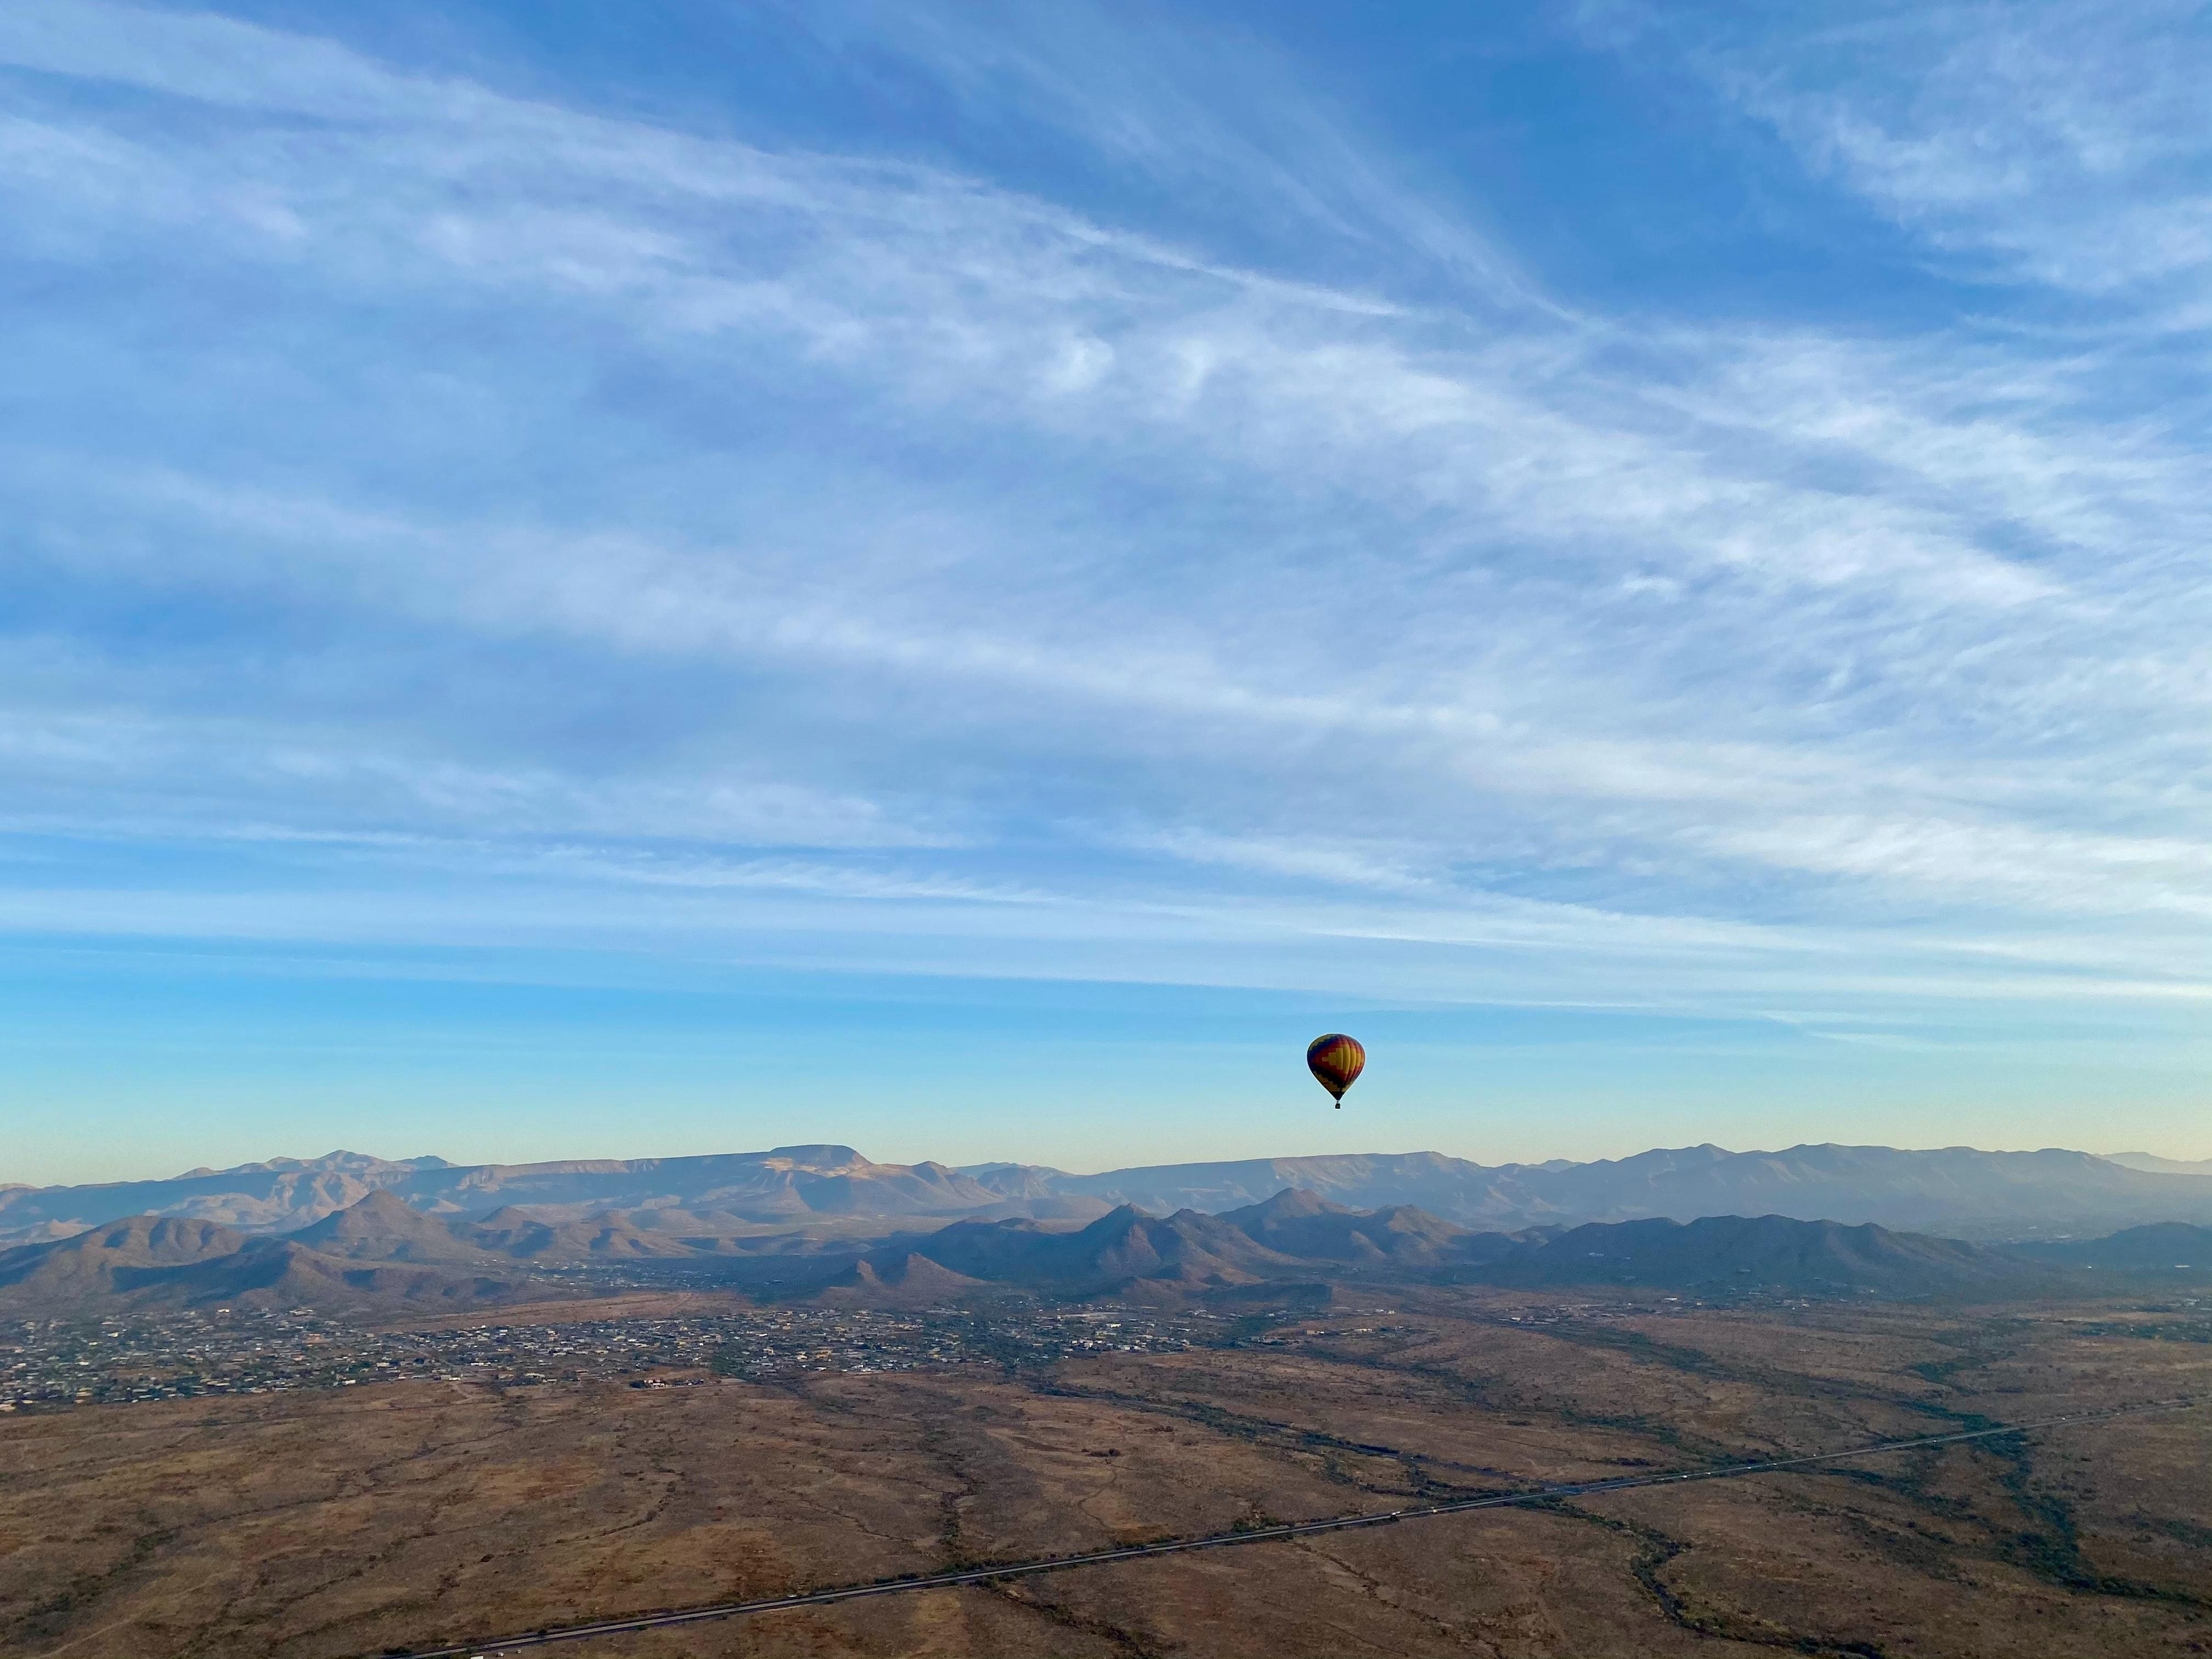hot air ballon: (1306, 1033, 1366, 1108)
